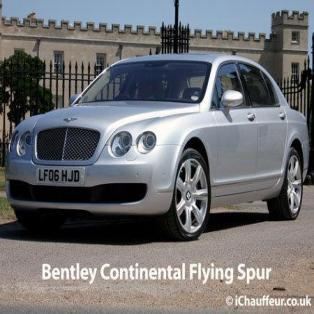Auto: (3, 49, 312, 244)
